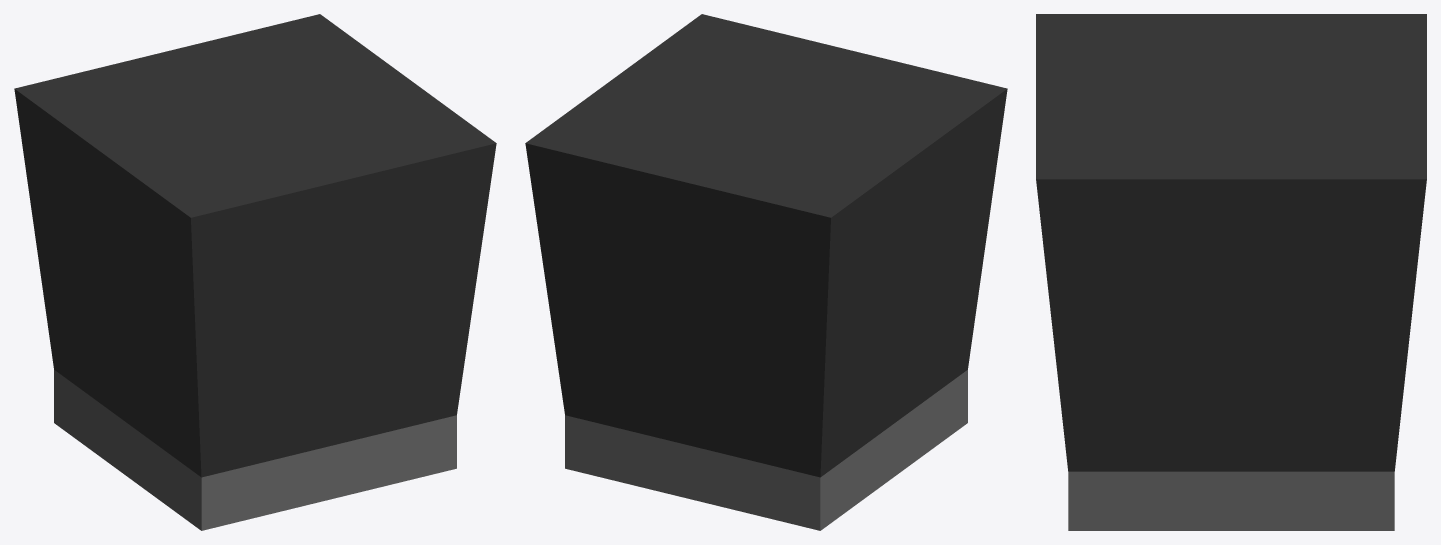
The model's file is scrapBox.obj.
The picture shows the model from 3 angles, left to right: view 1: azimuth 30°, elevation 25°; view 2: azimuth 150°, elevation 25°; view 3: azimuth 270°, elevation 25°; orthographic projection. The views are drawn at different scales.
Parts seen in each view (by area): view 1: スクラップボックス; view 2: スクラップボックス; view 3: スクラップボックス.
Boxes of the visible parts, x1,y1,x2,y2 form: スクラップボックス: (14,14,496,530); スクラップボックス: (525,14,1007,530); スクラップボックス: (1036,14,1426,530).
Bounding box in the file's own units: 1.8 × 1.85 × 1.8.
1 material, 1 textured.
